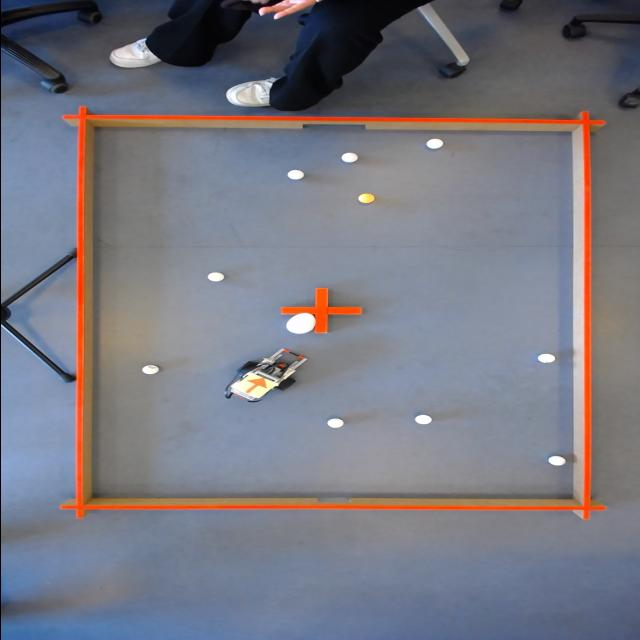cross: (279, 285, 364, 334)
egg: (281, 312, 317, 334)
orange_ball: (353, 192, 377, 205)
robot: (225, 370, 277, 399)
white_ball: (322, 416, 346, 431), (202, 270, 226, 284), (410, 412, 434, 426), (544, 454, 566, 468), (138, 364, 162, 376), (421, 138, 445, 150), (283, 168, 306, 180), (336, 152, 359, 164), (536, 352, 556, 363)
